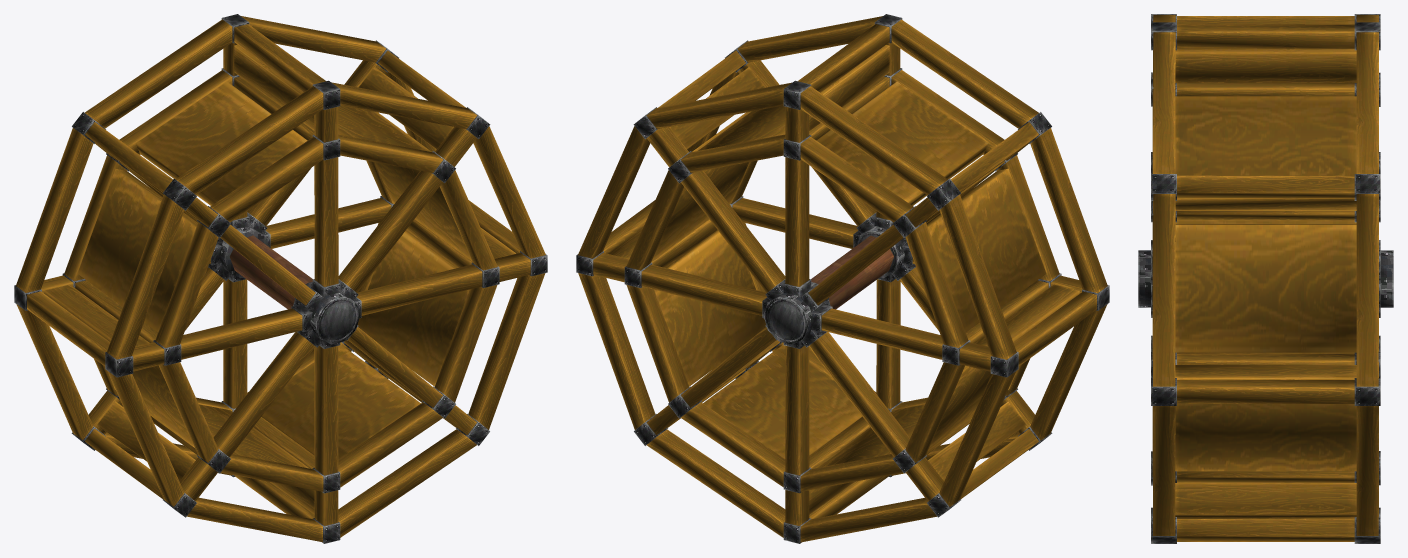
The model's file is INST_HTOWN_WATERWHEEL.fbx.
The picture shows the model from 3 angles, left to right: view 1: azimuth 30°, elevation 25°; view 2: azimuth 150°, elevation 25°; view 3: azimuth 270°, elevation 25°; orthographic projection. The views are drawn at different scales.
Visible parts, largest first — view 1: INST_HTOWN_WATERWHEEL; view 2: INST_HTOWN_WATERWHEEL; view 3: INST_HTOWN_WATERWHEEL.
Boxes of the visible parts, x1=… form: INST_HTOWN_WATERWHEEL: x1=14, y1=14, x2=547, y2=543; INST_HTOWN_WATERWHEEL: x1=576, y1=14, x2=1109, y2=543; INST_HTOWN_WATERWHEEL: x1=1138, y1=14, x2=1393, y2=543.
Bounding box in the file's own units: 88373 × 88374 × 40596.
Materials: 5 (5 with a texture image).
